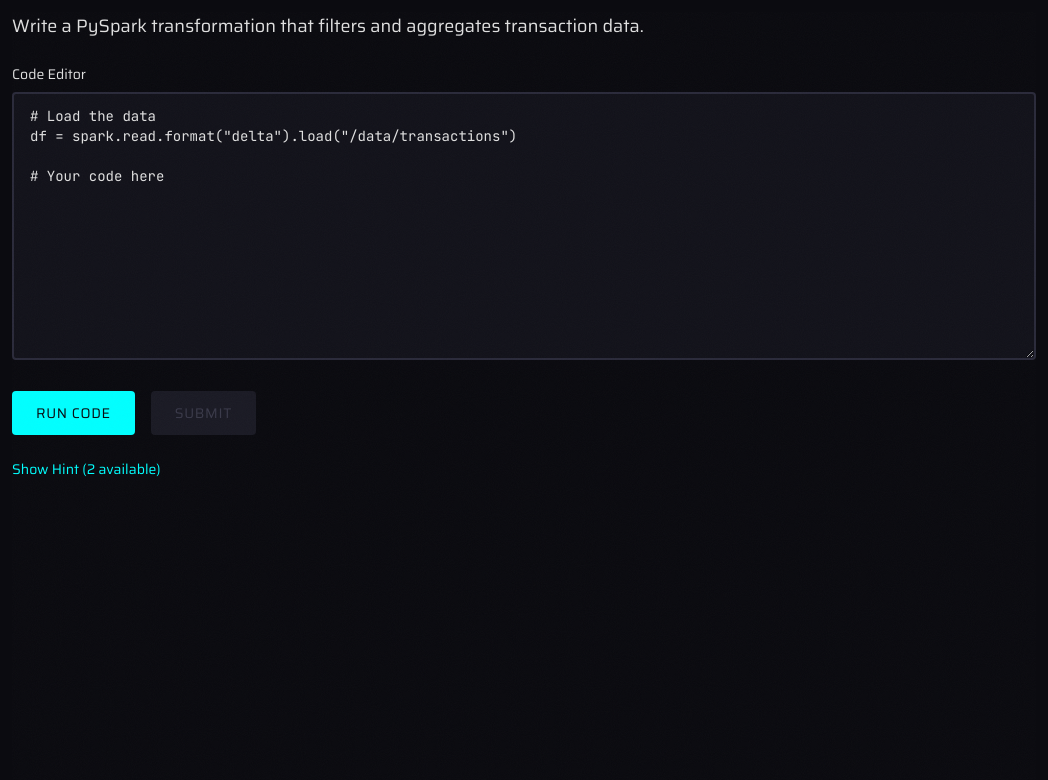
it: FreeTextChallenge › Code Execution (Simulated) › shows simulated output when run code button is clicked
Click the button "Run Code". click: (73, 413)
box: x1=12 y1=391 x2=135 y2=435
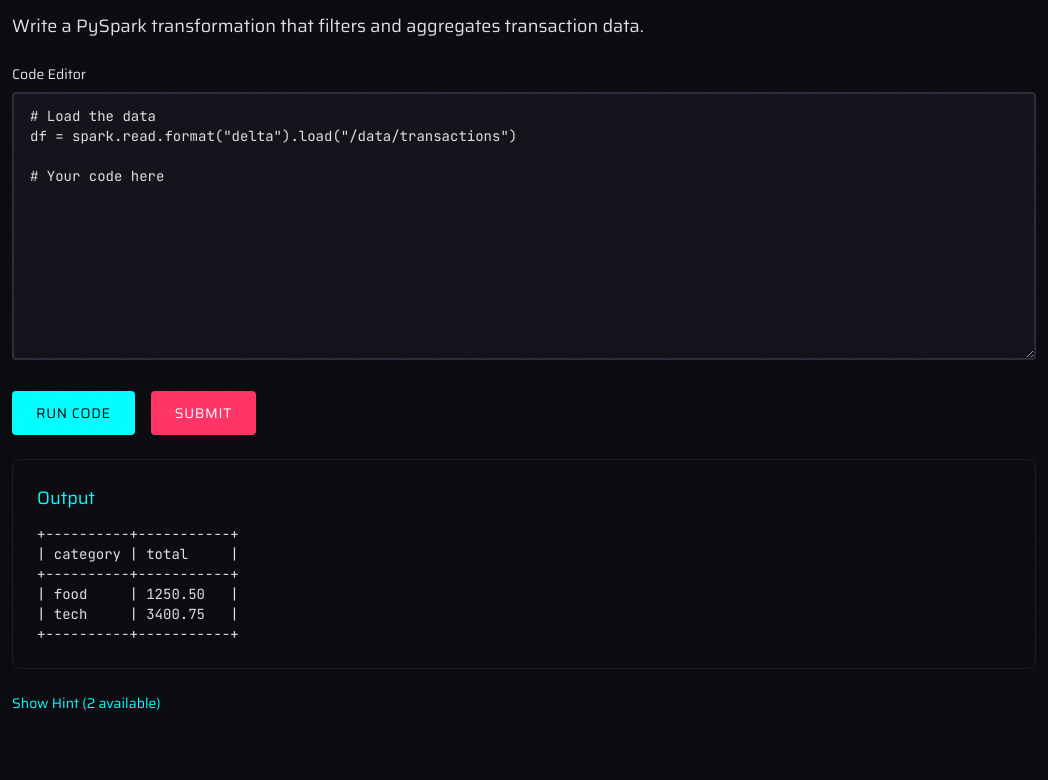
Expected: the text "food" is shown, x1=37 y1=525 x2=239 y2=643
